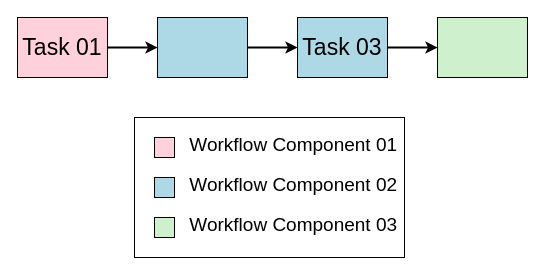
The diagram is 545 pixels wide and 275 high, and some of its shapes have lost their labels. Here are the shapes that lost their labels. From the top down, the centre of each, then its label:
At point 202,47: "Task 02".
At point 482,47: "Task 04".
